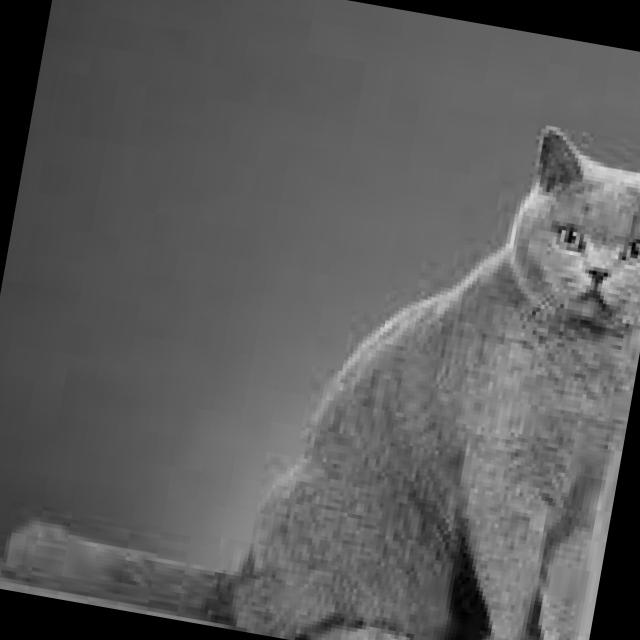british: (473, 91, 640, 345)
